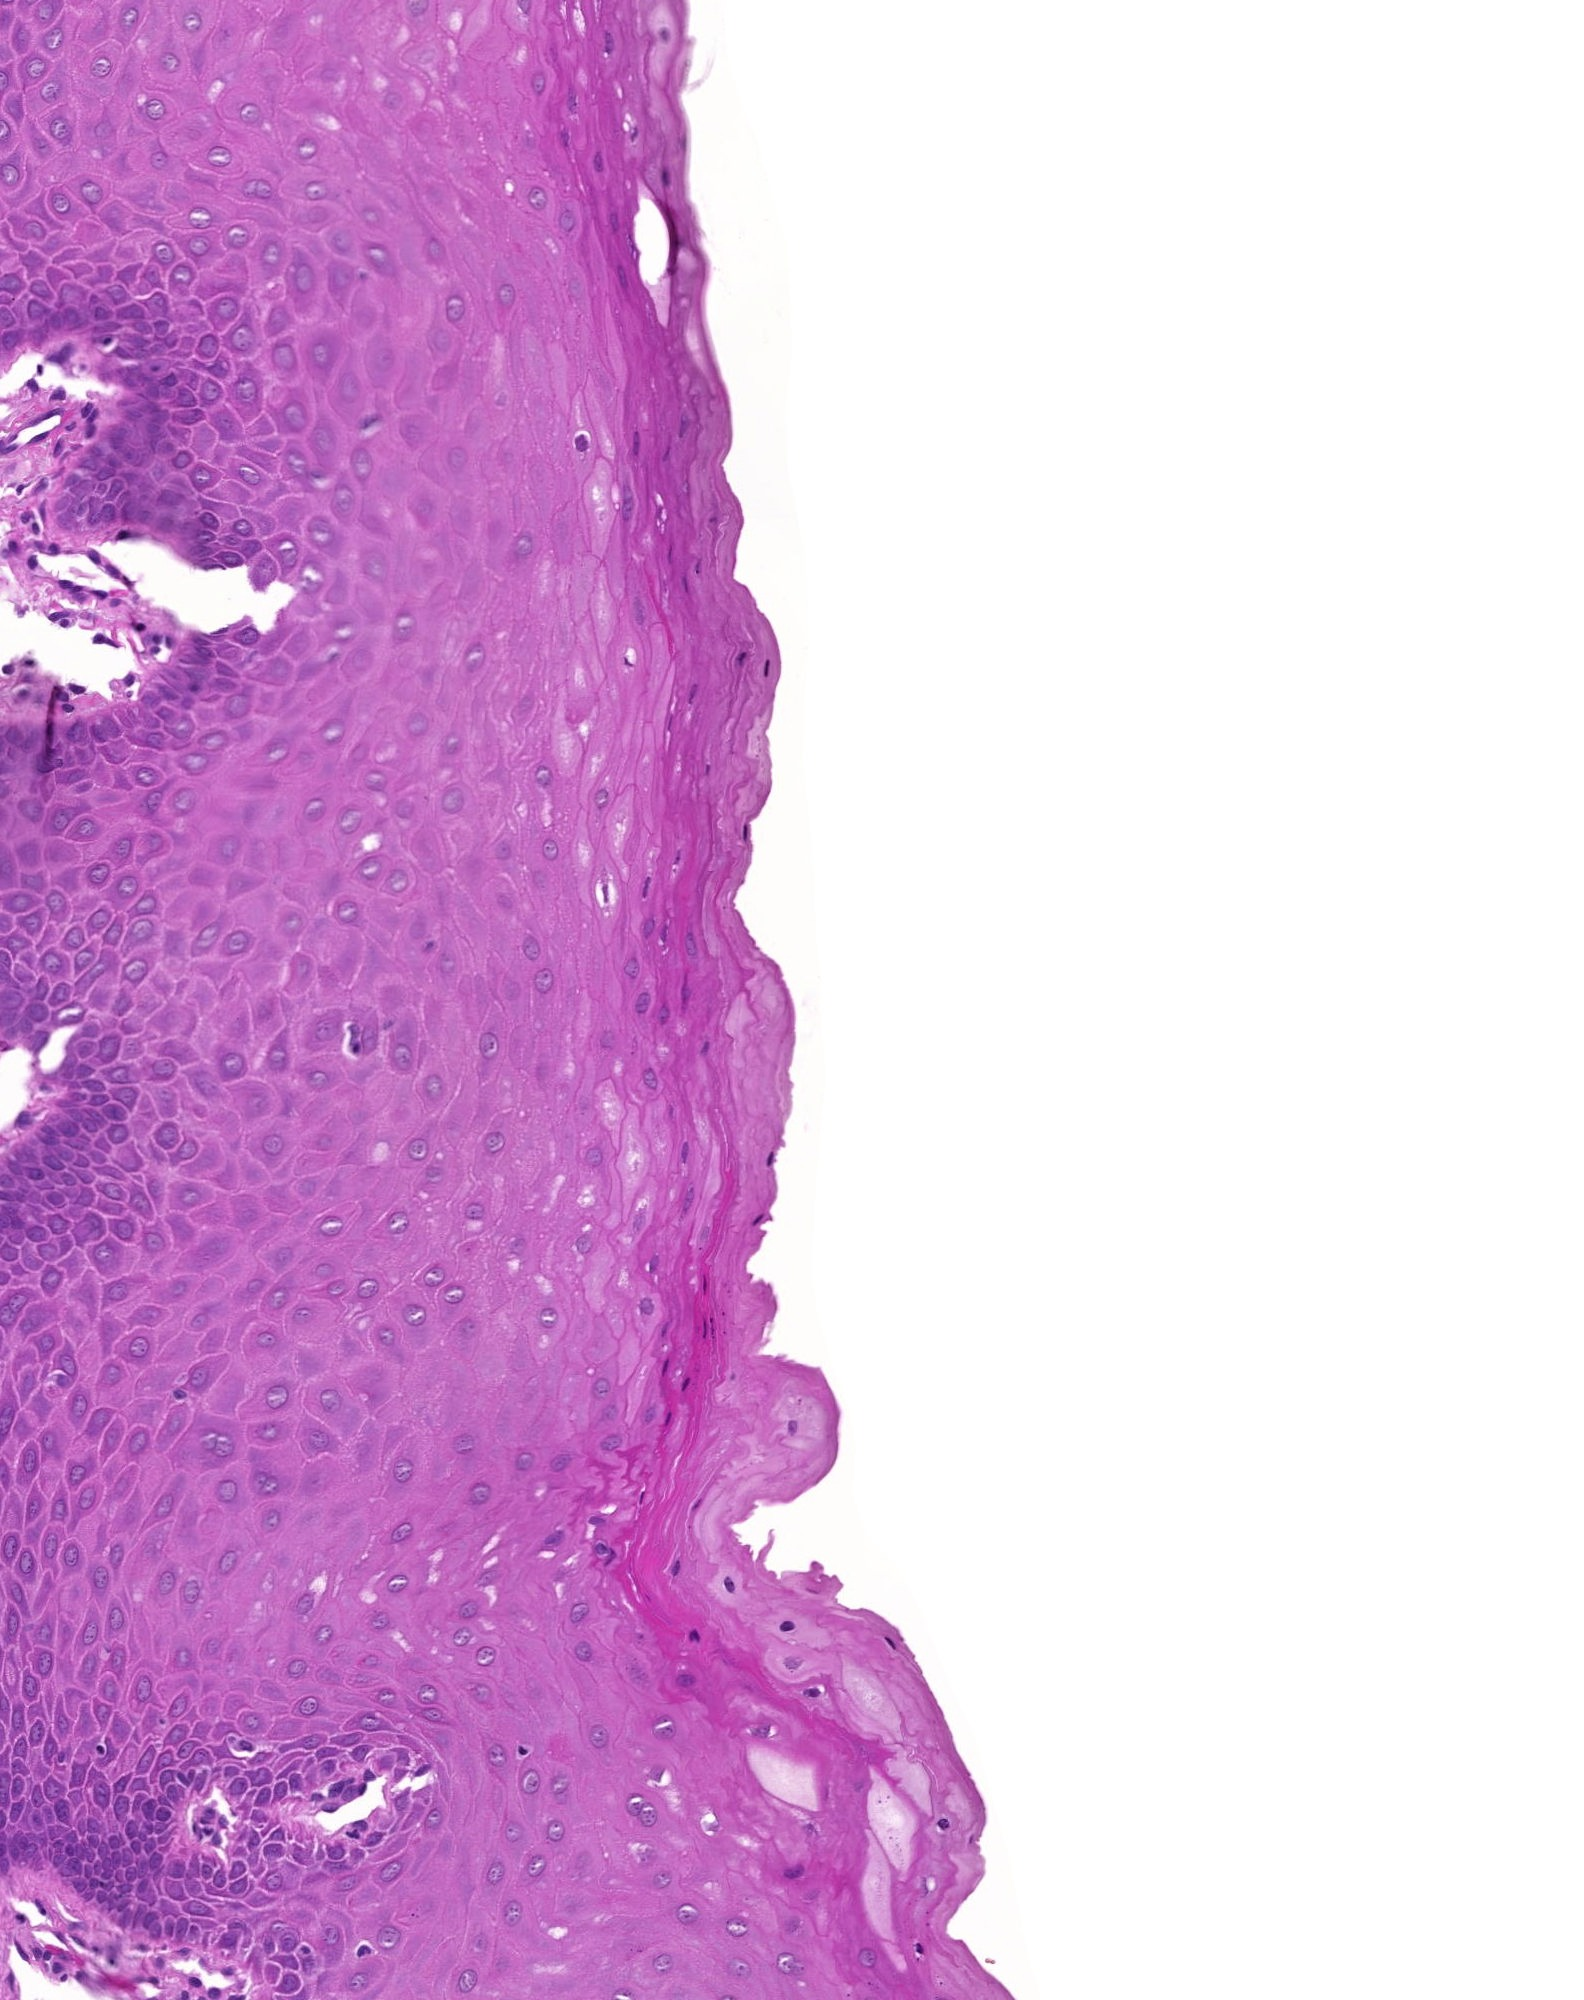epithelial: (67, 1101, 101, 1135), (269, 1089, 303, 1123), (188, 1852, 222, 1886), (62, 1753, 96, 1787), (32, 1795, 67, 1830), (42, 1490, 76, 1524), (42, 300, 75, 334), (60, 300, 93, 334), (24, 317, 57, 351), (127, 477, 161, 510), (107, 347, 140, 381), (144, 419, 179, 451), (11, 317, 45, 349), (34, 713, 67, 747), (23, 739, 55, 773), (187, 631, 219, 666), (67, 714, 101, 747), (235, 529, 268, 563), (182, 506, 214, 541), (42, 802, 76, 834), (39, 808, 71, 843), (63, 946, 96, 981), (143, 511, 175, 545), (198, 659, 232, 692), (28, 802, 62, 834), (52, 1049, 84, 1083), (11, 1136, 44, 1170), (28, 1330, 62, 1362), (148, 1117, 182, 1149), (54, 1003, 88, 1036), (89, 1211, 123, 1244), (11, 1224, 44, 1258), (76, 1093, 109, 1127), (123, 1188, 157, 1221), (84, 1399, 117, 1433), (3, 1162, 36, 1196), (75, 1029, 109, 1062), (5, 1411, 37, 1445), (154, 1912, 187, 1946), (13, 1549, 45, 1583), (162, 1909, 196, 1942), (115, 1787, 149, 1820), (19, 1800, 52, 1834), (84, 1881, 118, 1914), (122, 1818, 156, 1851), (148, 1787, 180, 1821), (170, 1752, 203, 1786), (149, 1891, 182, 1925), (179, 1857, 213, 1890), (50, 1813, 83, 1847), (130, 1860, 162, 1894), (349, 1705, 381, 1739), (299, 1731, 333, 1763), (29, 1614, 62, 1648), (172, 1869, 204, 1903), (131, 1737, 166, 1769), (88, 1872, 122, 1904), (50, 1852, 83, 1886), (123, 1802, 156, 1836), (183, 1713, 216, 1747), (2, 1821, 36, 1854), (26, 1808, 58, 1843), (256, 1779, 291, 1812), (13, 1808, 45, 1843), (68, 1818, 101, 1852), (154, 364, 187, 396), (175, 401, 208, 433), (117, 297, 149, 330), (138, 393, 170, 425), (149, 479, 182, 511), (18, 292, 50, 325), (96, 446, 128, 479), (58, 464, 91, 497), (138, 412, 170, 445), (96, 476, 128, 508), (115, 357, 148, 390), (136, 425, 169, 458), (107, 477, 140, 510), (123, 326, 156, 359), (117, 398, 149, 430), (28, 295, 60, 328), (140, 403, 172, 435), (15, 244, 47, 276), (123, 305, 156, 338), (75, 443, 107, 476), (112, 438, 144, 471), (29, 308, 62, 341), (105, 466, 138, 498), (94, 308, 127, 341), (76, 425, 109, 458), (117, 336, 149, 369), (104, 416, 136, 448), (195, 380, 227, 412), (99, 458, 131, 490), (45, 287, 78, 320), (24, 128, 57, 161), (91, 437, 123, 469), (86, 468, 118, 500), (86, 258, 118, 291), (21, 282, 54, 315), (125, 393, 157, 425), (136, 91, 169, 123), (107, 286, 140, 318), (157, 438, 190, 471), (37, 260, 70, 292), (86, 313, 118, 346), (162, 427, 195, 459), (284, 247, 316, 279), (310, 328, 342, 360), (144, 240, 177, 273), (188, 334, 221, 367), (57, 714, 89, 747), (149, 505, 182, 537), (217, 544, 250, 576), (18, 718, 50, 750), (208, 541, 240, 573), (94, 497, 127, 529), (16, 865, 49, 898), (13, 735, 45, 768), (192, 544, 224, 576), (206, 667, 239, 700), (219, 534, 252, 567), (39, 722, 71, 755), (15, 906, 47, 938), (44, 974, 76, 1006), (65, 740, 97, 773), (133, 724, 166, 756), (201, 545, 234, 578), (52, 864, 84, 896), (136, 683, 169, 716), (180, 651, 213, 683), (52, 731, 84, 763), (172, 683, 204, 716), (159, 508, 192, 541), (37, 838, 70, 870), (16, 747, 49, 779), (107, 867, 140, 899), (37, 748, 70, 781), (136, 502, 169, 534), (94, 739, 127, 771), (28, 773, 60, 805), (57, 925, 89, 958), (50, 797, 83, 830), (192, 622, 224, 654), (37, 890, 70, 922), (63, 765, 96, 797), (3, 925, 36, 958), (68, 963, 101, 995), (105, 765, 138, 797), (232, 797, 265, 830), (19, 1157, 52, 1190), (16, 997, 49, 1029), (34, 1119, 67, 1151), (97, 1096, 130, 1128), (24, 1021, 57, 1054), (3, 1148, 36, 1180), (15, 1445, 47, 1477), (68, 1032, 101, 1065), (3, 1180, 36, 1213), (32, 1143, 65, 1175), (99, 1107, 131, 1140), (15, 1148, 47, 1180), (50, 1162, 83, 1195), (65, 1146, 97, 1179), (97, 1274, 130, 1307), (141, 1055, 174, 1088), (248, 1463, 281, 1495), (34, 1258, 67, 1291), (63, 1128, 96, 1161), (15, 1307, 47, 1339), (68, 1162, 101, 1195), (32, 1429, 65, 1461), (263, 1045, 295, 1078), (122, 1338, 154, 1370), (31, 1268, 63, 1300), (45, 1057, 78, 1089), (44, 1112, 76, 1144), (83, 1235, 115, 1268), (265, 1242, 297, 1274), (5, 1010, 37, 1042), (162, 1271, 195, 1304), (91, 1089, 123, 1122), (185, 1070, 217, 1102), (172, 1175, 204, 1208), (302, 1425, 334, 1458), (58, 1224, 91, 1256), (37, 1003, 70, 1036), (93, 1123, 125, 1156), (91, 1317, 123, 1349), (8, 1156, 41, 1188), (136, 1224, 169, 1256), (50, 1346, 83, 1378), (3, 1282, 36, 1315), (24, 1227, 57, 1260), (232, 1200, 265, 1232), (58, 1122, 91, 1154), (37, 1195, 70, 1227), (62, 1385, 94, 1417), (248, 997, 281, 1029), (76, 1141, 109, 1174), (84, 1060, 117, 1093), (44, 1219, 76, 1252), (458, 1196, 490, 1229), (19, 1011, 52, 1044), (88, 1276, 120, 1308), (295, 1058, 328, 1091), (86, 1128, 118, 1161), (5, 997, 37, 1029), (29, 1068, 62, 1101), (10, 1185, 42, 1218), (36, 1234, 68, 1266), (399, 1297, 432, 1330), (23, 1123, 55, 1156), (24, 1002, 57, 1034), (131, 1789, 164, 1821), (81, 1867, 114, 1899), (54, 1834, 86, 1867), (114, 1815, 146, 1847), (118, 1831, 151, 1864), (148, 1800, 180, 1833), (84, 1779, 117, 1812), (105, 1781, 138, 1813), (112, 1899, 144, 1932), (133, 1830, 166, 1862), (41, 1830, 73, 1862), (255, 1833, 287, 1865), (237, 1825, 269, 1857), (62, 1869, 94, 1901), (86, 1734, 118, 1766), (274, 1966, 307, 1998), (203, 1862, 235, 1894), (107, 1891, 140, 1924), (273, 1945, 305, 1977), (149, 1761, 182, 1794), (13, 1669, 45, 1701), (123, 1768, 156, 1800), (128, 1849, 161, 1881), (19, 1784, 52, 1817), (312, 1750, 344, 1782), (3, 1753, 36, 1786), (34, 1731, 67, 1763), (318, 1838, 351, 1870), (149, 1851, 182, 1883), (161, 1716, 193, 1748), (292, 1726, 325, 1758), (252, 1929, 284, 1961), (123, 1781, 156, 1813), (221, 1909, 253, 1942), (114, 1766, 146, 1799), (209, 1867, 242, 1899), (179, 1893, 211, 1925), (386, 1516, 419, 1549), (13, 1834, 45, 1867), (28, 1724, 60, 1756), (148, 1752, 180, 1784), (213, 1755, 245, 1787), (3, 1580, 36, 1612), (204, 1735, 237, 1768), (269, 1958, 302, 1990), (75, 1648, 107, 1680), (13, 1724, 45, 1756), (102, 1711, 135, 1744), (10, 1795, 42, 1828), (289, 1588, 321, 1620), (37, 1817, 70, 1849), (261, 1818, 294, 1851), (128, 1748, 161, 1781), (86, 1696, 118, 1729), (166, 1731, 198, 1763), (101, 1869, 133, 1901), (89, 1964, 122, 1997), (172, 1903, 204, 1935), (34, 1766, 67, 1799), (219, 1881, 252, 1914), (93, 1890, 125, 1922), (19, 1703, 52, 1735), (245, 1834, 278, 1867), (76, 1756, 109, 1789), (364, 1606, 396, 1638), (170, 1739, 203, 1771), (170, 1852, 203, 1885), (243, 1794, 276, 1826), (243, 1748, 276, 1781), (164, 1924, 196, 1956), (42, 1784, 75, 1817), (188, 1760, 221, 1792), (177, 1576, 209, 1609), (107, 1820, 140, 1852), (237, 1841, 269, 1873), (140, 1747, 172, 1779), (3, 1591, 36, 1623), (414, 1698, 446, 1731), (201, 1852, 234, 1885), (597, 205, 630, 237), (605, 261, 638, 294), (665, 127, 698, 159), (657, 266, 690, 299), (617, 232, 649, 265), (662, 341, 695, 373), (678, 258, 711, 291), (648, 917, 680, 950), (654, 537, 687, 570), (623, 596, 656, 628), (529, 763, 562, 795), (503, 536, 536, 568), (708, 610, 740, 643), (683, 872, 716, 904), (505, 1446, 537, 1479), (584, 1372, 617, 1404), (669, 1367, 701, 1399), (524, 1055, 557, 1088), (648, 1313, 680, 1346), (531, 1300, 563, 1333), (776, 1950, 808, 1982), (209, 411, 240, 445), (101, 300, 135, 331), (76, 286, 110, 317), (123, 260, 157, 291), (196, 360, 227, 394), (229, 305, 260, 339), (161, 416, 192, 450), (188, 351, 222, 381), (123, 468, 157, 498), (141, 278, 172, 312), (183, 640, 214, 674), (41, 740, 75, 771), (11, 847, 42, 881), (182, 519, 213, 554), (154, 688, 185, 722), (201, 532, 235, 563), (23, 761, 54, 795), (76, 1107, 110, 1138), (105, 1213, 140, 1244), (84, 1101, 118, 1131), (97, 1060, 131, 1091), (15, 1209, 45, 1244), (11, 1174, 42, 1208), (28, 1153, 58, 1187), (88, 1080, 122, 1110), (60, 1070, 91, 1104), (93, 1049, 123, 1083), (23, 1235, 54, 1269), (45, 1792, 76, 1826), (2, 1791, 32, 1825), (54, 1825, 88, 1856), (67, 1838, 101, 1869), (273, 1925, 303, 1959), (28, 1644, 58, 1679), (83, 1765, 114, 1799), (57, 1541, 88, 1575), (60, 1765, 91, 1799), (162, 1877, 196, 1907), (28, 1773, 62, 1804), (148, 1817, 179, 1851), (68, 1852, 99, 1886), (130, 1880, 161, 1914), (276, 1753, 307, 1787), (93, 1739, 127, 1769), (110, 1804, 141, 1838), (84, 1744, 115, 1778), (196, 1756, 230, 1787), (157, 1865, 188, 1899), (36, 1838, 67, 1872), (93, 1679, 123, 1713), (659, 278, 690, 312), (661, 205, 695, 235), (691, 752, 722, 786), (591, 1024, 622, 1058), (721, 1907, 755, 1938), (105, 336, 136, 369), (83, 297, 114, 330), (80, 437, 112, 468), (101, 424, 131, 456), (200, 352, 230, 385), (114, 461, 144, 494), (136, 375, 169, 406), (88, 458, 120, 489), (140, 351, 170, 383), (170, 385, 201, 417), (54, 297, 84, 330), (164, 445, 196, 476), (110, 258, 141, 291), (153, 430, 183, 463), (28, 278, 60, 308), (183, 466, 214, 498), (146, 372, 179, 403), (148, 292, 179, 325), (166, 378, 196, 411), (299, 458, 329, 490), (101, 281, 131, 313), (182, 456, 213, 489), (122, 443, 153, 476), (175, 364, 208, 394), (196, 341, 227, 373), (2, 24, 34, 55), (146, 359, 179, 390), (125, 317, 157, 347), (80, 451, 110, 484), (49, 115, 80, 148), (143, 333, 175, 364), (135, 261, 167, 292), (182, 398, 214, 429), (120, 365, 151, 398), (211, 286, 242, 318), (273, 404, 303, 437), (133, 334, 166, 365), (97, 206, 128, 239), (131, 310, 162, 343), (166, 253, 196, 286), (123, 351, 156, 381), (32, 735, 65, 766), (11, 727, 42, 760), (192, 505, 222, 537), (179, 669, 209, 701), (81, 718, 114, 748), (188, 515, 221, 545), (187, 532, 217, 565), (11, 834, 42, 867), (29, 726, 62, 756), (125, 502, 157, 532), (230, 622, 261, 654), (208, 653, 239, 685), (221, 515, 252, 547), (214, 524, 247, 555), (174, 513, 204, 545), (148, 696, 180, 727), (2, 724, 32, 756), (13, 795, 45, 826), (54, 761, 84, 794), (135, 791, 167, 821), (24, 972, 57, 1003), (175, 661, 208, 692), (226, 539, 256, 571), (109, 830, 140, 862), (47, 747, 80, 778), (76, 502, 109, 532), (41, 951, 71, 984), (10, 963, 42, 994), (179, 536, 209, 568), (243, 560, 274, 593), (6, 789, 37, 821), (5, 885, 37, 916), (44, 756, 76, 787), (70, 812, 101, 844), (11, 877, 42, 909), (32, 976, 65, 1006), (157, 925, 188, 958), (125, 758, 157, 789), (32, 940, 65, 971), (196, 537, 227, 570), (97, 912, 128, 945), (227, 523, 260, 554), (162, 659, 195, 690), (67, 727, 97, 760), (242, 537, 273, 570), (11, 890, 42, 922), (136, 825, 169, 856), (224, 925, 255, 958), (130, 893, 162, 924), (174, 643, 204, 675), (195, 641, 226, 674), (28, 958, 58, 990), (54, 1115, 84, 1148), (70, 1054, 101, 1086), (76, 1070, 109, 1101), (19, 1218, 52, 1248), (37, 1183, 70, 1214), (81, 1084, 114, 1115), (39, 1149, 71, 1180), (80, 1208, 112, 1239), (94, 1026, 125, 1058), (93, 1037, 123, 1070), (62, 1081, 93, 1114), (114, 1084, 146, 1115), (73, 1015, 105, 1045), (44, 1209, 76, 1240), (58, 1107, 89, 1140), (101, 1119, 133, 1149), (11, 1006, 44, 1037), (45, 1141, 78, 1172), (68, 1182, 99, 1214), (183, 1364, 216, 1394), (49, 1229, 81, 1260), (60, 1459, 93, 1490), (117, 1149, 149, 1180), (214, 1054, 245, 1086), (32, 1131, 65, 1162), (198, 1232, 230, 1263), (80, 1407, 110, 1440), (89, 1231, 122, 1261), (136, 1174, 169, 1205), (89, 1174, 122, 1205), (45, 1364, 78, 1394), (19, 1195, 50, 1227), (24, 1390, 57, 1420), (28, 1213, 60, 1244), (122, 1179, 153, 1211), (164, 1213, 196, 1244), (58, 1093, 89, 1125), (198, 1429, 229, 1461), (472, 1028, 505, 1058), (19, 1031, 52, 1062), (11, 1248, 42, 1281), (131, 1300, 162, 1333), (67, 1451, 97, 1484), (450, 1427, 480, 1459), (104, 1080, 136, 1110), (386, 1459, 419, 1490), (54, 1086, 86, 1117), (415, 1157, 448, 1188), (479, 1123, 510, 1156), (209, 1042, 242, 1073), (109, 1067, 140, 1099), (105, 1093, 138, 1123), (89, 1192, 122, 1222), (252, 1323, 284, 1354), (401, 1131, 433, 1162), (388, 1042, 419, 1075), (71, 1279, 102, 1312), (55, 1062, 88, 1093), (71, 1213, 102, 1245), (70, 1174, 102, 1205), (21, 1205, 52, 1237), (169, 1761, 200, 1794), (140, 1795, 170, 1828), (136, 1846, 169, 1877), (10, 1828, 41, 1860), (104, 1769, 136, 1800), (157, 1778, 190, 1808), (2, 1771, 32, 1804), (75, 1826, 107, 1857), (278, 1766, 310, 1797), (247, 1781, 278, 1813), (21, 1718, 54, 1748), (127, 1870, 157, 1903), (133, 1812, 166, 1843), (239, 1763, 271, 1794), (75, 1862, 107, 1893), (101, 1885, 133, 1916), (115, 1859, 148, 1890), (75, 1810, 105, 1843), (91, 1847, 123, 1878), (291, 1938, 321, 1971), (221, 1872, 253, 1903), (45, 1740, 78, 1771), (2, 1838, 32, 1870), (265, 1773, 295, 1805), (127, 1898, 157, 1930), (179, 1765, 211, 1795), (221, 1852, 252, 1885), (91, 1860, 122, 1893), (385, 1786, 417, 1817), (175, 1912, 206, 1945), (3, 1731, 36, 1761), (308, 1739, 341, 1769), (80, 1852, 110, 1885), (83, 1565, 114, 1597), (157, 1760, 190, 1791), (187, 1742, 219, 1773), (282, 1839, 313, 1872), (91, 1773, 123, 1804), (26, 1825, 58, 1856), (19, 1843, 50, 1875), (451, 1596, 484, 1627), (248, 1763, 281, 1794), (110, 1846, 141, 1878), (2, 1695, 34, 1726), (213, 1857, 243, 1890), (141, 1856, 174, 1886), (75, 1844, 105, 1877), (294, 1692, 326, 1722), (156, 1768, 187, 1800), (153, 1560, 185, 1591), (101, 1643, 131, 1675), (188, 1896, 221, 1927), (36, 1529, 67, 1562), (177, 1745, 209, 1776), (91, 1787, 123, 1818), (472, 1560, 505, 1591), (227, 1756, 260, 1787), (97, 1852, 128, 1885), (144, 1826, 175, 1859), (104, 1836, 136, 1867), (54, 1786, 84, 1818), (140, 1894, 170, 1927), (268, 1760, 299, 1792), (10, 1709, 42, 1740), (373, 1917, 406, 1948), (70, 1701, 101, 1734), (170, 1885, 203, 1916), (315, 1920, 347, 1951), (2, 1531, 32, 1563), (381, 1567, 412, 1599), (239, 1786, 269, 1818), (169, 1640, 200, 1672), (101, 1604, 131, 1636), (19, 1661, 50, 1693), (477, 1739, 510, 1769), (141, 1838, 174, 1869), (28, 1789, 58, 1821), (10, 1766, 41, 1799), (19, 1518, 50, 1550), (154, 1901, 185, 1933), (667, 411, 699, 442), (583, 146, 613, 179), (592, 29, 625, 60), (549, 122, 579, 154), (651, 438, 682, 471), (678, 359, 709, 391), (661, 291, 691, 323), (610, 481, 643, 511), (683, 244, 716, 274), (618, 117, 649, 149), (669, 476, 701, 506), (725, 641, 756, 674), (677, 675, 708, 708), (669, 567, 699, 599), (698, 503, 729, 536), (674, 924, 706, 955), (682, 550, 712, 583), (617, 951, 648, 984), (669, 976, 701, 1006), (747, 779, 777, 812), (588, 779, 618, 812), (589, 877, 622, 907), (514, 930, 545, 963), (635, 1062, 665, 1094), (545, 1446, 578, 1477), (630, 1291, 661, 1323), (672, 1183, 704, 1214), (592, 1429, 625, 1459), (669, 1135, 699, 1167), (636, 1250, 669, 1281), (633, 1399, 665, 1430), (566, 1226, 597, 1258), (501, 1227, 532, 1260), (755, 1284, 786, 1317), (579, 1141, 612, 1172), (570, 1636, 600, 1669), (670, 1662, 701, 1695), (583, 1722, 615, 1753), (747, 1714, 777, 1747), (622, 1792, 652, 1825), (565, 1597, 596, 1630), (776, 1909, 808, 1940), (670, 1901, 703, 1932), (651, 1713, 682, 1745), (537, 1523, 570, 1554), (643, 1758, 674, 1791), (519, 1851, 552, 1881), (842, 1769, 875, 1800), (794, 1812, 824, 1844), (539, 1820, 571, 1851), (962, 1787, 993, 1820), (644, 1864, 677, 1894), (909, 1872, 940, 1904), (192, 325, 222, 356), (91, 325, 122, 356), (144, 308, 175, 339), (131, 364, 162, 394), (153, 326, 183, 357), (105, 433, 136, 464), (2, 321, 32, 352), (227, 364, 258, 394), (161, 481, 192, 511), (0, 268, 31, 299), (2, 93, 32, 123), (140, 481, 170, 511), (70, 450, 101, 481), (28, 752, 58, 782), (153, 679, 183, 709), (110, 500, 141, 531), (81, 859, 112, 890), (96, 713, 127, 744), (195, 523, 226, 554), (80, 907, 110, 938), (166, 718, 196, 748), (2, 1208, 32, 1239), (11, 1369, 42, 1399), (84, 1023, 115, 1054), (450, 1312, 480, 1343), (153, 1127, 183, 1157), (123, 1429, 154, 1459), (157, 1036, 188, 1067), (97, 1359, 128, 1390), (11, 1455, 42, 1485), (29, 1166, 60, 1196), (19, 1170, 50, 1201), (109, 1055, 140, 1086), (352, 1274, 383, 1305), (101, 1826, 131, 1857), (58, 1851, 89, 1881), (162, 1856, 193, 1886), (135, 1903, 166, 1933), (101, 1843, 131, 1873), (226, 1769, 256, 1800), (104, 1792, 135, 1823), (42, 1846, 73, 1877), (109, 1873, 140, 1904), (3, 1705, 34, 1735), (75, 1873, 105, 1904), (88, 1834, 118, 1865), (144, 1916, 175, 1946), (45, 1708, 76, 1739), (333, 1724, 364, 1755), (323, 1851, 354, 1881), (42, 1774, 73, 1805), (114, 1839, 144, 1870), (346, 1735, 377, 1766), (286, 1946, 316, 1977), (19, 1830, 50, 1860), (16, 1492, 47, 1523), (101, 1539, 131, 1570), (19, 1774, 50, 1805), (256, 1502, 287, 1532), (260, 1869, 291, 1899), (419, 1800, 450, 1831), (10, 1700, 41, 1731), (44, 1752, 75, 1782), (307, 1619, 338, 1649), (127, 1679, 157, 1709), (651, 161, 682, 192), (620, 429, 651, 459), (557, 84, 588, 115), (523, 71, 553, 102), (633, 911, 664, 942), (654, 706, 685, 737), (691, 1312, 722, 1343), (690, 1268, 721, 1299), (648, 998, 678, 1029), (592, 1398, 623, 1429), (854, 1940, 885, 1971), (516, 1769, 547, 1800), (622, 1657, 652, 1688)
fibroblast and endothelial: (24, 468, 57, 502), (50, 675, 84, 708), (11, 644, 44, 679), (37, 532, 71, 565), (29, 688, 63, 721), (21, 528, 54, 562), (221, 615, 255, 648), (118, 516, 153, 549), (412, 929, 445, 963), (339, 1765, 373, 1797), (76, 1930, 110, 1963), (300, 1779, 333, 1813), (50, 1916, 84, 1948), (334, 1778, 367, 1812), (354, 1813, 386, 1847), (211, 1937, 243, 1971), (19, 1929, 52, 1963), (188, 1823, 222, 1856), (339, 1782, 372, 1817), (656, 252, 690, 284), (665, 234, 699, 266), (42, 339, 75, 372), (41, 430, 73, 463), (16, 369, 49, 401), (42, 381, 75, 414), (18, 404, 50, 437), (352, 406, 385, 438), (3, 471, 36, 503), (28, 411, 60, 443), (24, 365, 57, 398), (50, 688, 83, 721), (107, 518, 140, 550), (123, 610, 156, 643), (149, 622, 182, 654), (76, 573, 109, 606), (96, 627, 128, 659), (29, 539, 62, 571), (39, 692, 71, 724), (76, 531, 109, 563), (6, 1104, 39, 1136), (339, 1031, 372, 1063), (338, 1019, 370, 1052), (162, 1377, 195, 1409), (5, 1935, 37, 1968), (23, 1938, 55, 1971), (42, 1951, 75, 1984), (24, 1891, 57, 1924), (315, 1792, 347, 1825), (5, 1901, 37, 1933), (339, 1812, 372, 1844), (96, 1942, 128, 1974), (347, 1935, 380, 1968), (42, 1920, 75, 1953), (347, 1820, 380, 1852), (91, 1933, 123, 1966), (347, 1747, 380, 1779), (45, 1959, 78, 1992), (383, 1756, 415, 1789), (386, 1740, 419, 1773), (331, 1760, 364, 1792), (657, 227, 690, 260), (565, 425, 597, 458), (644, 183, 677, 216), (729, 815, 761, 847), (750, 651, 782, 683), (630, 870, 662, 903), (610, 646, 643, 679), (753, 1143, 786, 1175), (649, 1349, 682, 1381), (795, 1677, 828, 1709), (927, 1807, 959, 1839), (712, 1568, 745, 1601), (678, 1619, 711, 1651), (902, 1932, 935, 1964), (581, 1503, 613, 1536), (594, 1537, 626, 1570), (44, 601, 75, 635), (204, 615, 235, 649), (114, 662, 144, 696), (182, 623, 213, 657), (135, 1964, 169, 1995), (75, 401, 105, 433), (75, 414, 105, 446), (54, 411, 86, 442), (36, 388, 68, 419), (36, 347, 68, 378), (36, 683, 68, 714), (138, 623, 169, 656), (62, 672, 93, 705), (50, 570, 83, 601), (80, 541, 110, 573), (97, 555, 128, 588), (84, 578, 117, 609), (41, 674, 71, 706), (110, 565, 141, 597), (11, 656, 42, 688), (6, 679, 39, 709), (57, 680, 88, 713), (99, 586, 130, 619), (328, 1773, 360, 1804), (196, 1820, 229, 1851), (195, 1799, 226, 1831), (187, 1813, 217, 1846), (179, 1964, 209, 1997), (65, 1959, 97, 1990), (318, 1774, 351, 1805), (206, 1808, 237, 1841), (213, 1925, 243, 1958), (34, 1938, 65, 1971), (63, 1925, 96, 1956), (127, 1930, 157, 1963), (47, 1945, 80, 1976), (230, 1729, 261, 1761), (360, 1821, 393, 1852), (58, 1909, 89, 1942), (339, 1825, 372, 1856), (329, 1836, 360, 1869), (45, 1933, 76, 1966), (308, 1776, 339, 1808), (200, 1968, 230, 2000), (182, 1807, 213, 1839), (316, 1765, 347, 1797), (131, 1924, 162, 1956), (341, 1838, 373, 1869), (355, 1756, 388, 1787), (16, 1899, 49, 1930), (368, 1747, 401, 1778), (60, 1950, 93, 1981), (19, 1885, 52, 1916), (321, 1786, 354, 1817), (657, 239, 690, 269), (656, 209, 687, 242), (651, 195, 682, 227), (678, 235, 711, 266), (648, 18, 678, 50), (742, 1203, 773, 1235), (690, 1031, 721, 1063), (776, 1411, 808, 1442), (769, 1610, 802, 1641), (588, 1532, 618, 1565), (661, 1550, 691, 1583), (776, 1857, 808, 1888), (680, 1489, 711, 1521), (34, 398, 65, 429), (26, 420, 57, 451), (50, 334, 81, 365), (70, 394, 101, 425), (49, 396, 80, 427), (16, 545, 47, 576), (88, 623, 118, 654), (62, 575, 93, 606), (6, 664, 37, 695), (10, 502, 41, 532), (140, 635, 170, 666), (34, 701, 65, 732), (23, 683, 54, 714), (19, 498, 50, 529), (58, 700, 89, 731), (346, 1773, 377, 1804), (351, 1765, 381, 1795), (406, 1755, 437, 1786), (664, 221, 695, 252), (652, 1403, 683, 1433), (875, 1627, 906, 1657), (506, 1734, 537, 1765), (0, 529, 29, 562), (0, 1963, 28, 1995)
lymphocyte: (141, 1945, 175, 1977), (23, 352, 55, 385), (11, 943, 44, 976), (211, 1956, 243, 1989), (91, 549, 125, 580), (19, 511, 50, 544), (169, 1935, 198, 1968), (0, 653, 28, 685)
